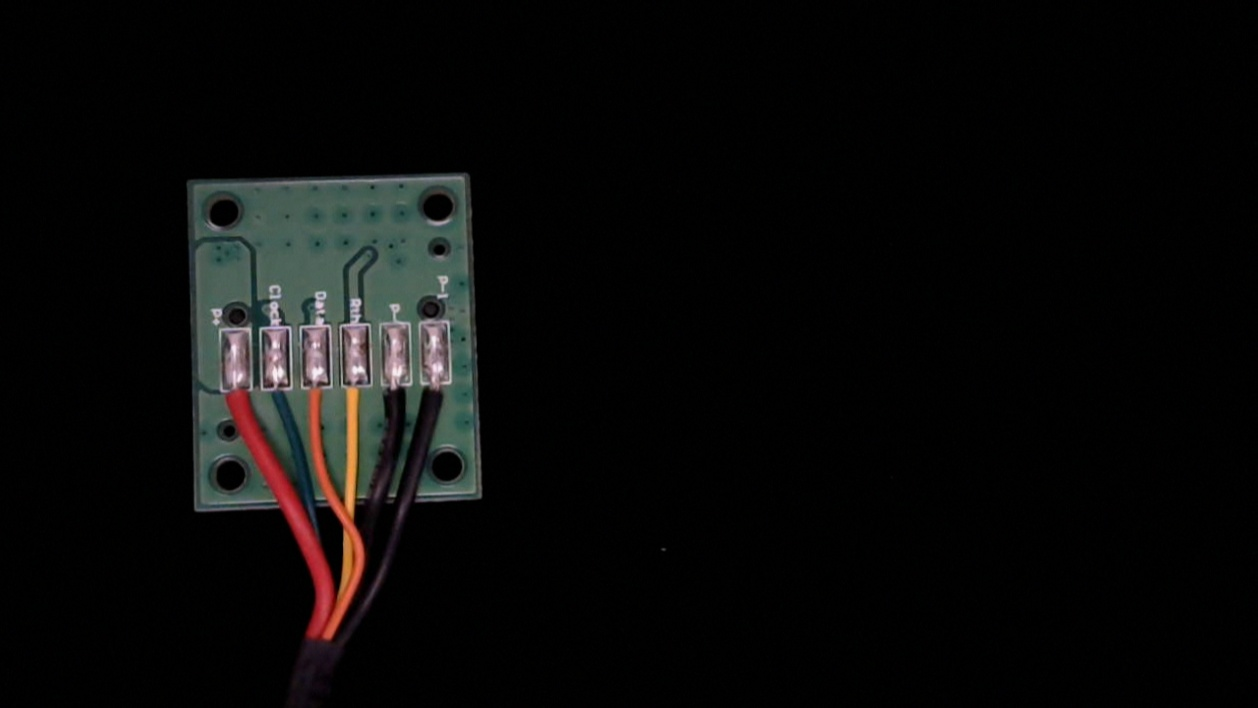Black: (381, 367, 413, 432)
Black1: (422, 366, 453, 433)
Green: (263, 370, 293, 436)
Orange: (303, 371, 333, 430)
Red: (222, 371, 251, 437)
Yellow: (341, 368, 372, 437)
